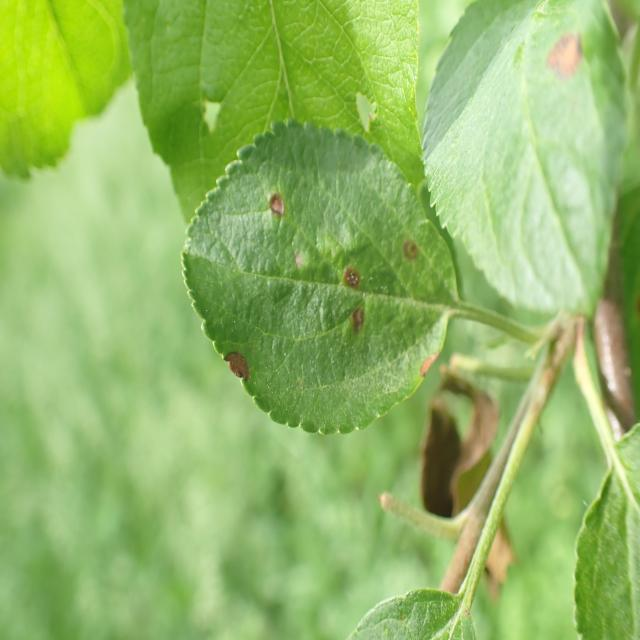Black Rot: (536, 20, 587, 101), (207, 338, 260, 410), (392, 233, 427, 286), (332, 256, 366, 300), (258, 194, 302, 225), (341, 309, 377, 344), (415, 348, 452, 382)
